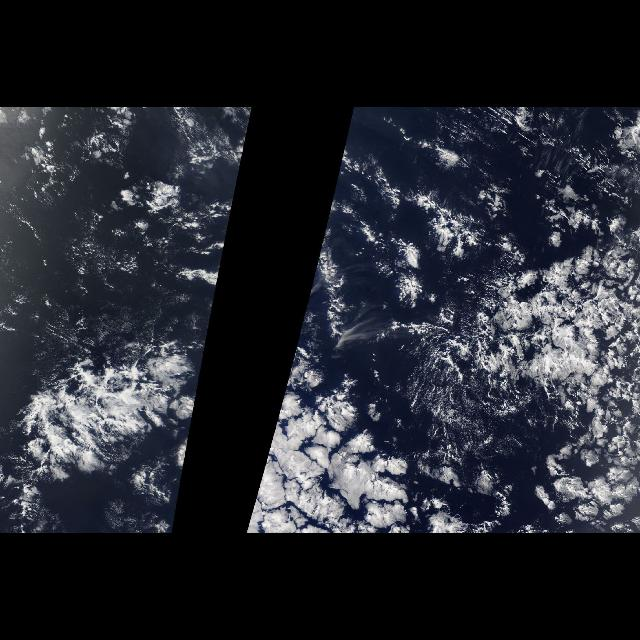Fish: (2, 322, 190, 500), (352, 147, 468, 245)
Flower: (244, 353, 436, 533), (524, 266, 626, 518)
Sugar: (418, 365, 518, 461), (26, 318, 180, 346)
